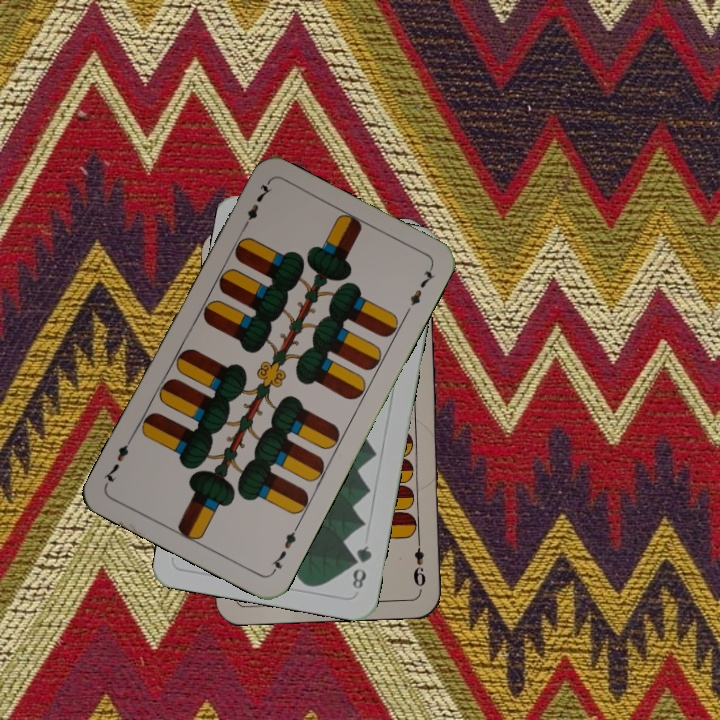E7: (237, 179, 273, 233), (267, 521, 302, 576)
E9: (409, 533, 429, 589)
G8: (348, 541, 375, 592)
